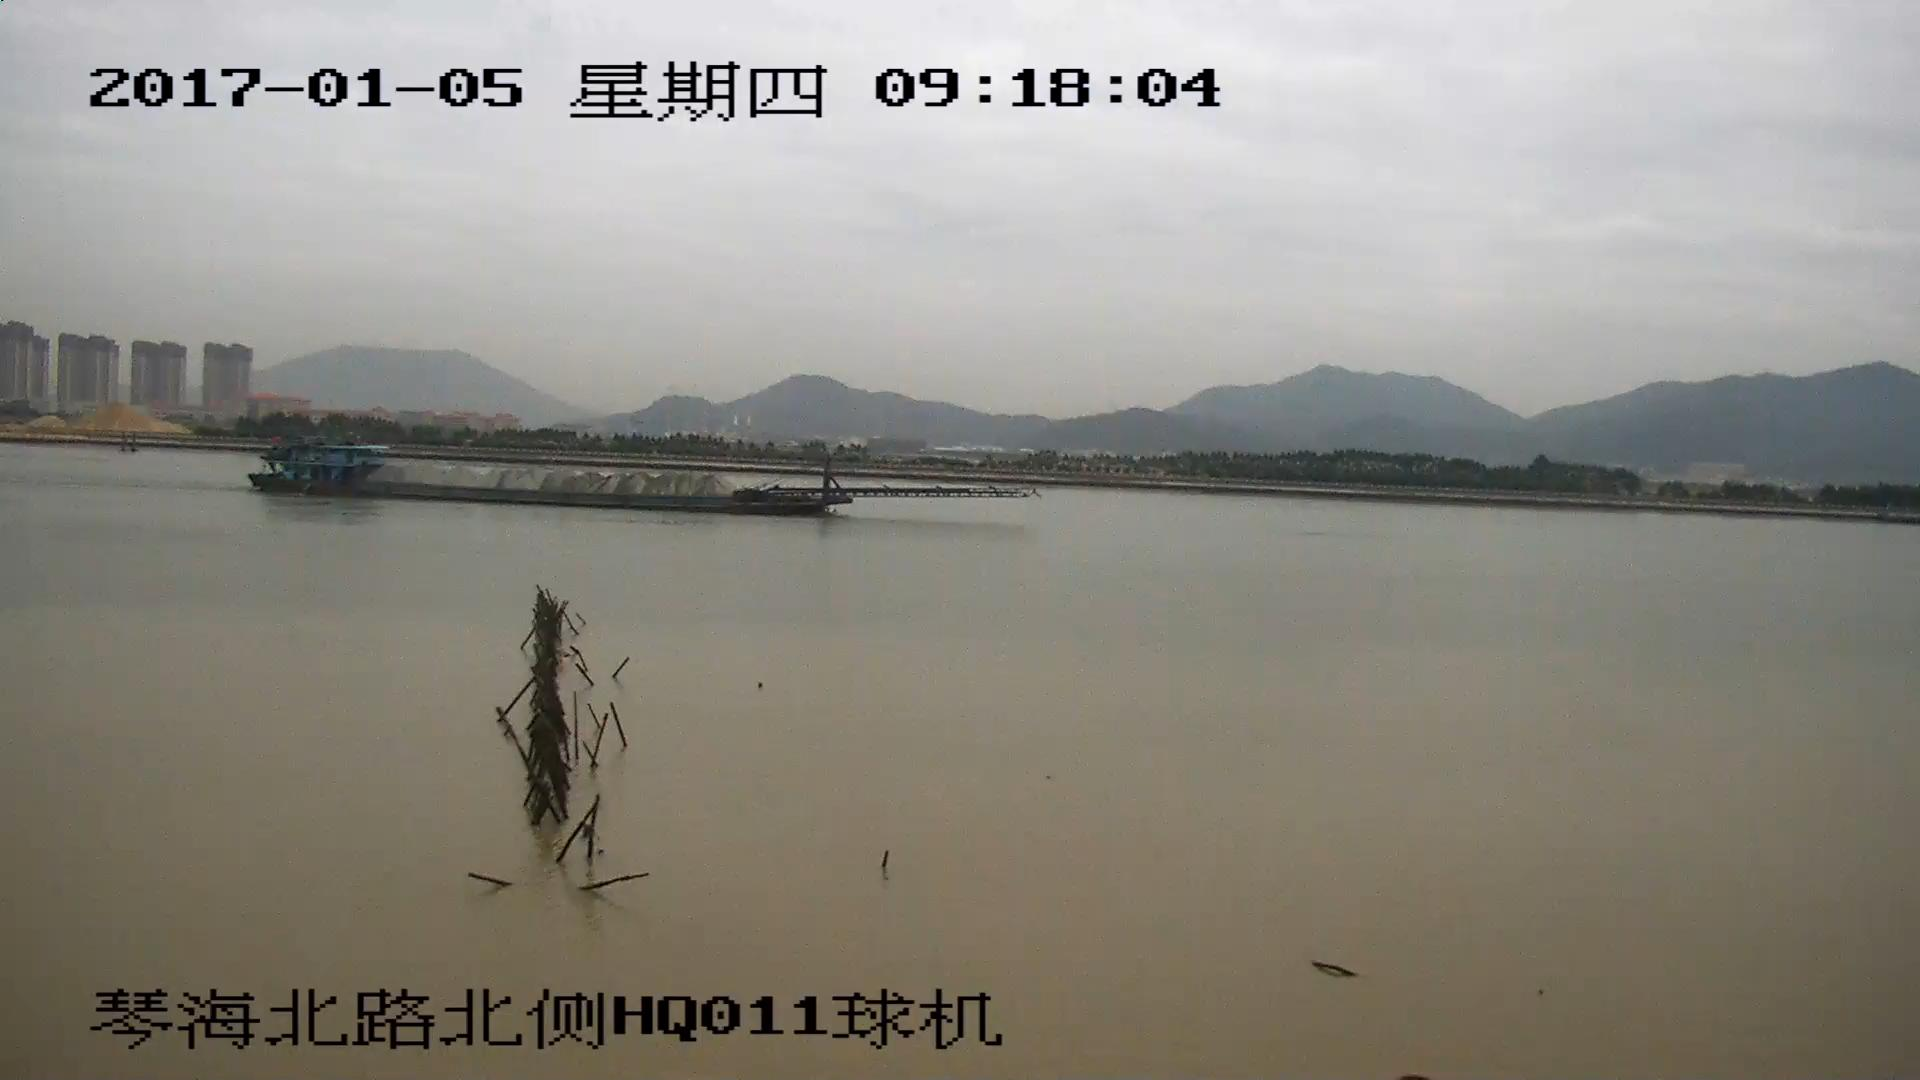ore carrier: (252, 442, 1018, 512)
